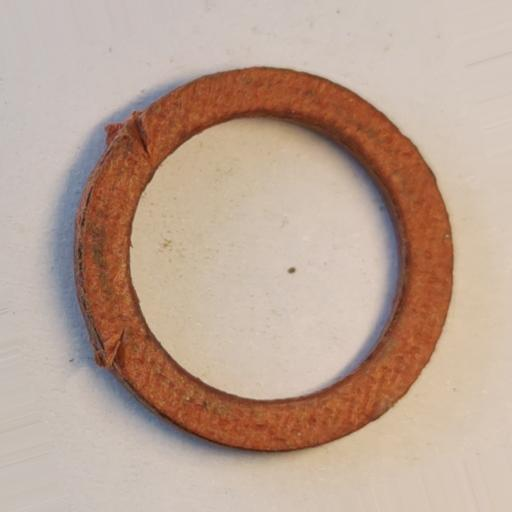defect: (119, 109, 156, 163), (94, 320, 128, 370)
